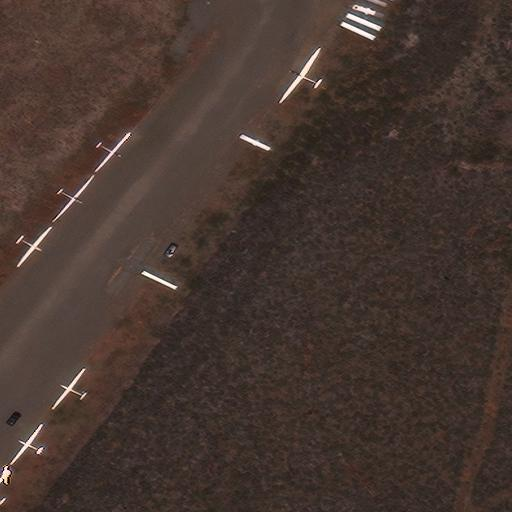Medium Civil Transport: (278, 47, 319, 102), (53, 176, 95, 223), (50, 367, 84, 409), (95, 133, 131, 172), (9, 423, 41, 464)
Small Civil Transport: (18, 228, 51, 267)
